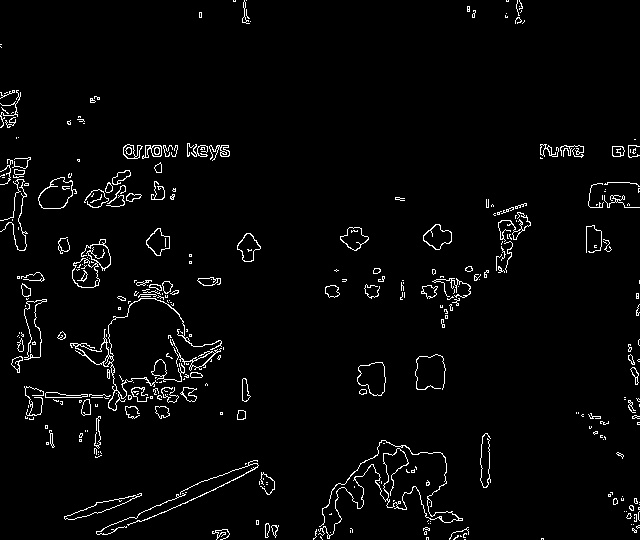rune_box: (94, 190, 506, 285)
